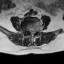CCS_normal: (31, 29, 33, 38)
LFS_severe_stenosis: (35, 29, 37, 34)
LLS_stenosis: (33, 30, 35, 36)
RFS_severe_stenosis: (27, 28, 29, 33)
RLS_normal: (29, 29, 31, 35)
